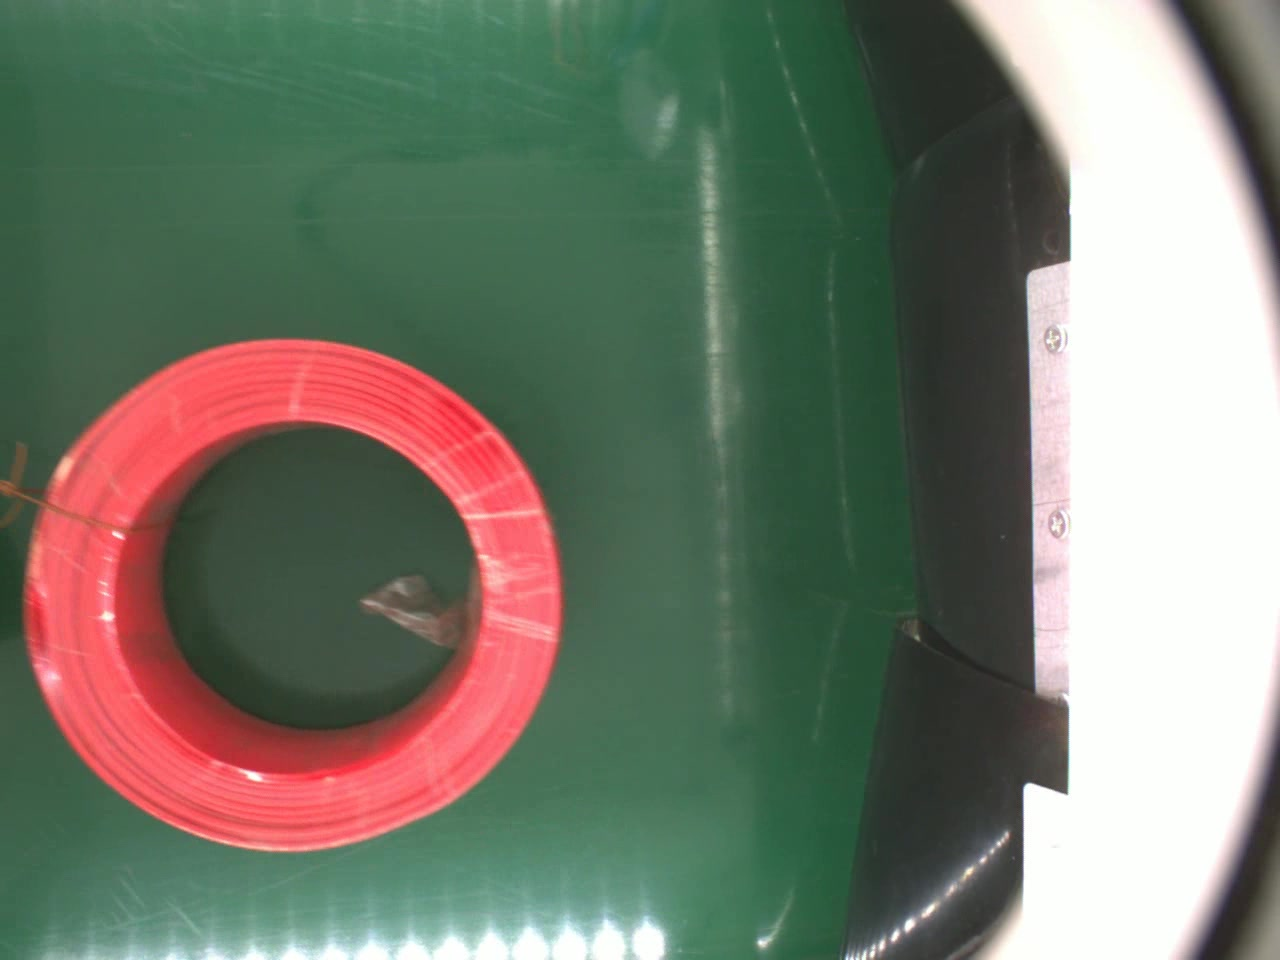red: (18, 335, 563, 859)
